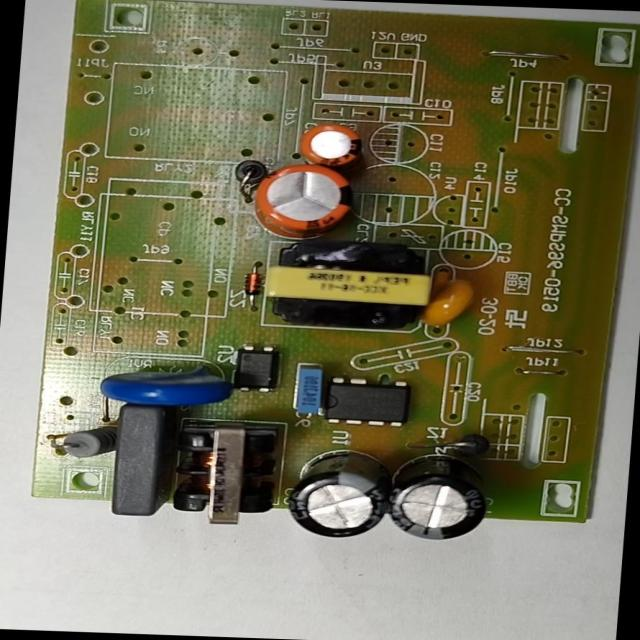Cap1: (243, 158, 372, 240)
Cap2: (290, 113, 374, 172)
Cap3: (271, 444, 398, 547)
Cap4: (372, 441, 498, 545)
MOSFET: (308, 372, 422, 428)
Mov: (91, 349, 237, 415)
Resistor: (50, 416, 128, 460)
Transformer: (250, 234, 448, 332), (164, 416, 288, 532)
